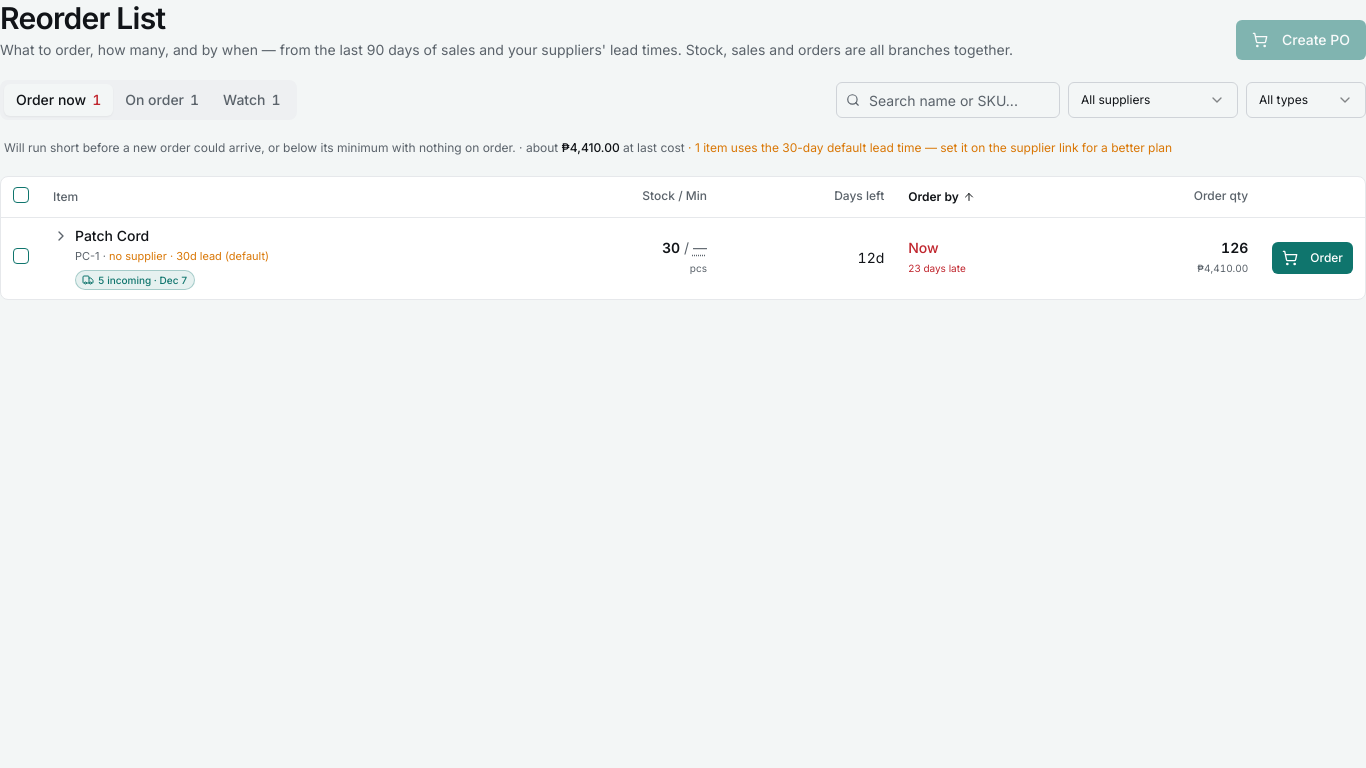
Test: Reorder List › opens the PO form for just that item from its Order button
The width and height of the screenshot is (1366, 768).
The full table can take over a second to draw when every test file runs at once.
Click the button with aria-label "Order Patch Cord".
click(1313, 258)  # box [1272,242,1353,274]
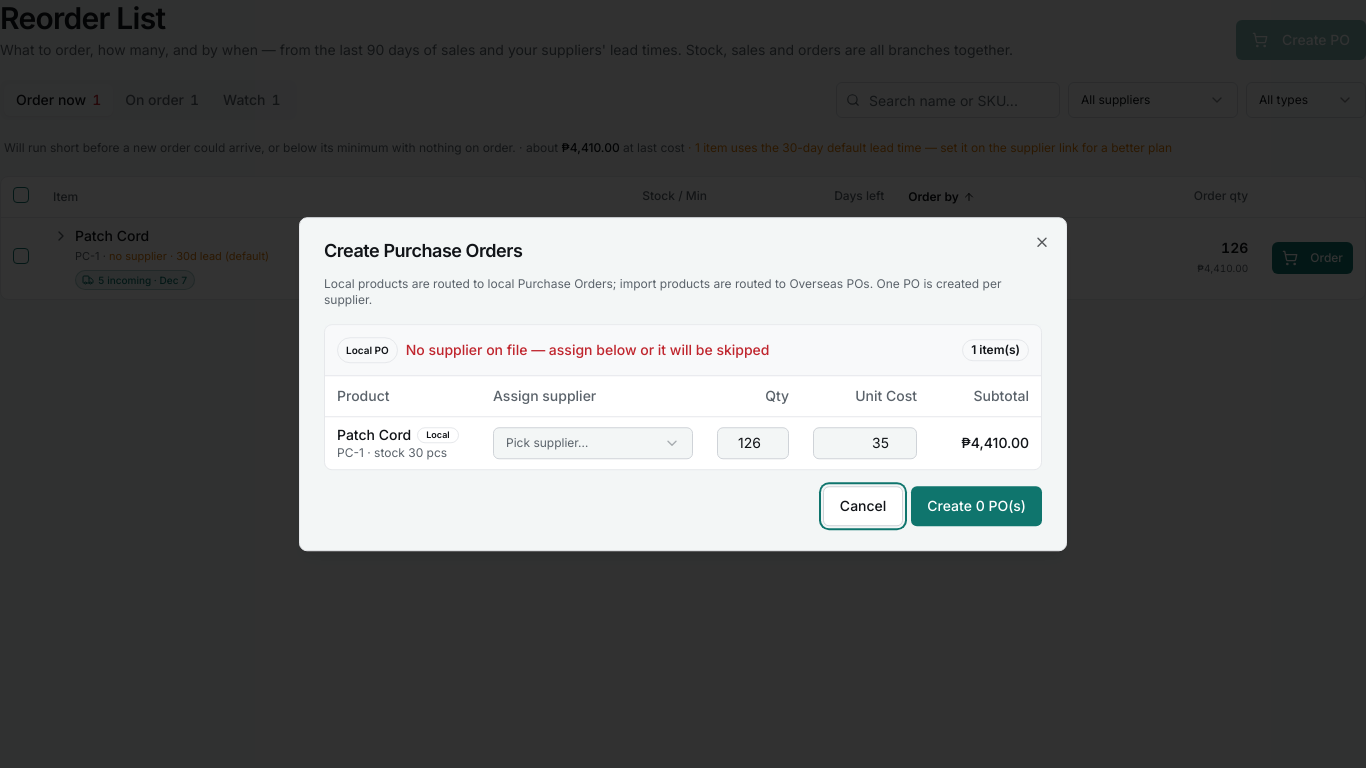
Expected: the heading "Create Purchase Orders" is shown, [324,240,522,261]
Expected: the text "Patch Cord" is shown, [337,426,411,443]
